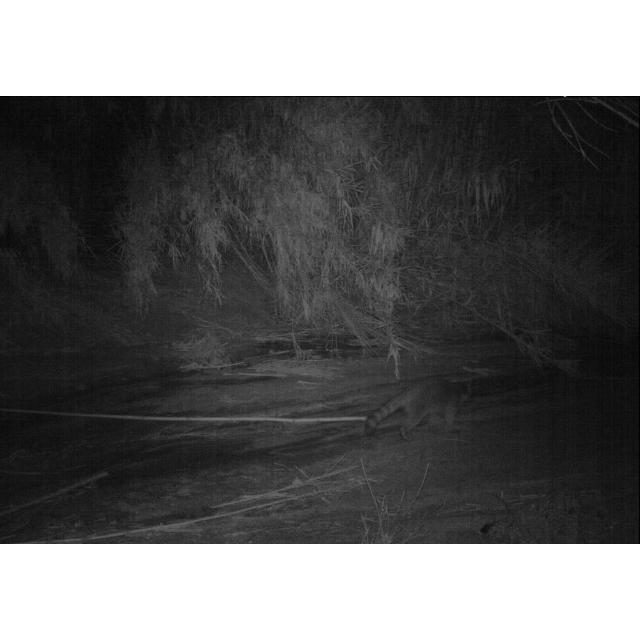animals: (371, 372, 472, 438)
